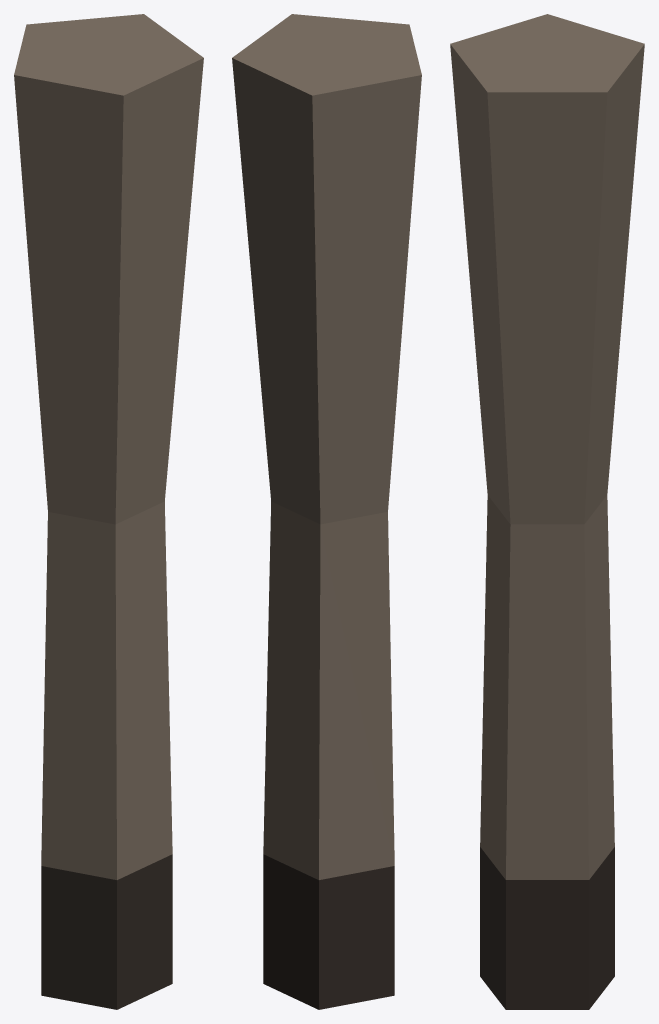
The model's file is animal_caribou_leg.obj.
3 views of the same model, side by side, from view 1: azimuth 30°, elevation 25°; view 2: azimuth 150°, elevation 25°; view 3: azimuth 270°, elevation 25° (orthographic).
Visible parts, largest first — view 1: animal_caribou_leg; view 2: animal_caribou_leg; view 3: animal_caribou_leg.
Part boxes in pixels (<box>): animal_caribou_leg: <box>14,14,203,1009</box>; animal_caribou_leg: <box>232,14,421,1009</box>; animal_caribou_leg: <box>450,14,644,1009</box>.
Bounding box in the file's own units: 0.1106 × 0.6125 × 0.1164.
